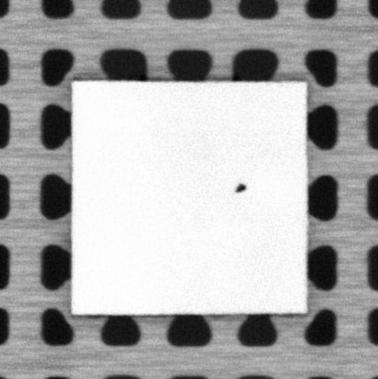DIE_INK: (233, 181, 247, 192)
